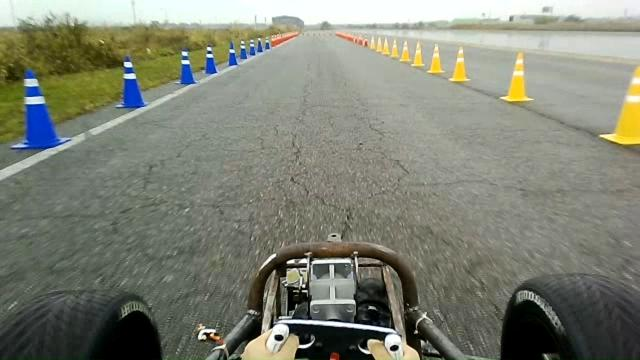blue cone: (10, 68, 71, 150), (115, 55, 148, 108), (174, 46, 197, 84), (203, 44, 218, 74), (227, 40, 238, 66)
yellow cone: (599, 66, 639, 146), (499, 51, 534, 103), (448, 45, 471, 82), (427, 43, 445, 74), (411, 40, 425, 67), (399, 40, 411, 62)
